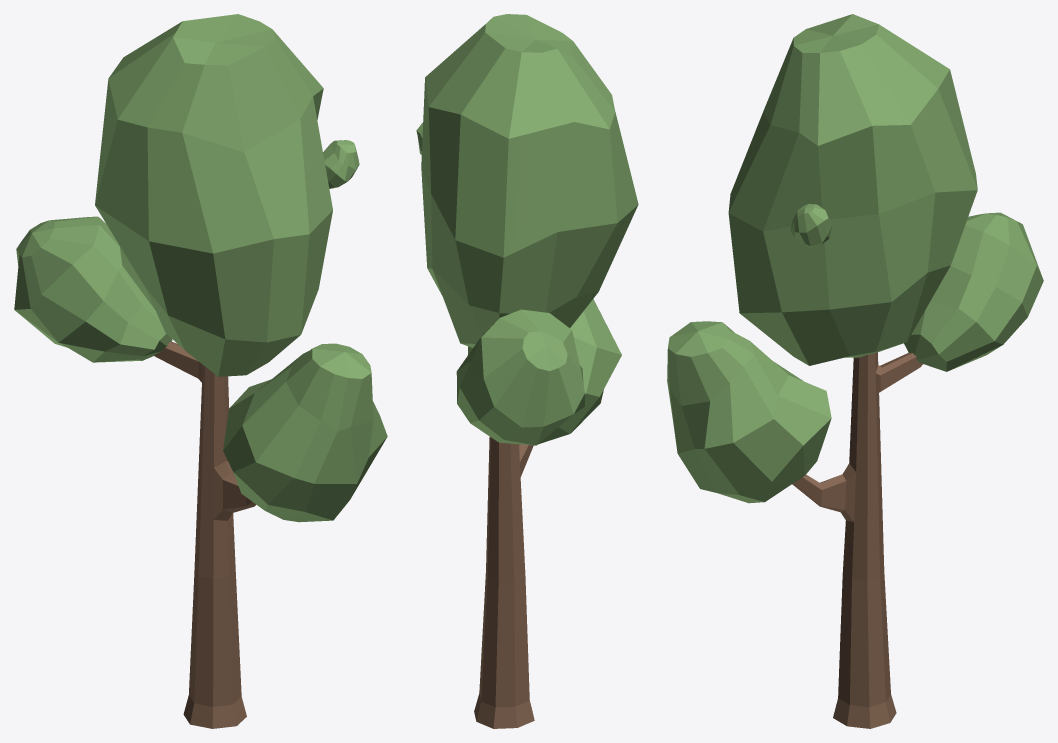
File: Leaves_01.006.fbx
The picture shows the model from 3 angles, left to right: view 1: azimuth 30°, elevation 25°; view 2: azimuth 150°, elevation 25°; view 3: azimuth 270°, elevation 25°; orthographic projection. The views are drawn at different scales.
Visible parts, largest first — view 1: Leaves_01.006; view 2: Leaves_01.006; view 3: Leaves_01.006.
Part boxes in pixels (left/top/right/bottom): Leaves_01.006: left=14, top=14, right=387, bottom=728; Leaves_01.006: left=416, top=14, right=638, bottom=728; Leaves_01.006: left=667, top=14, right=1043, bottom=728.
Size of the model in its own units: 132 by 350 by 176.
